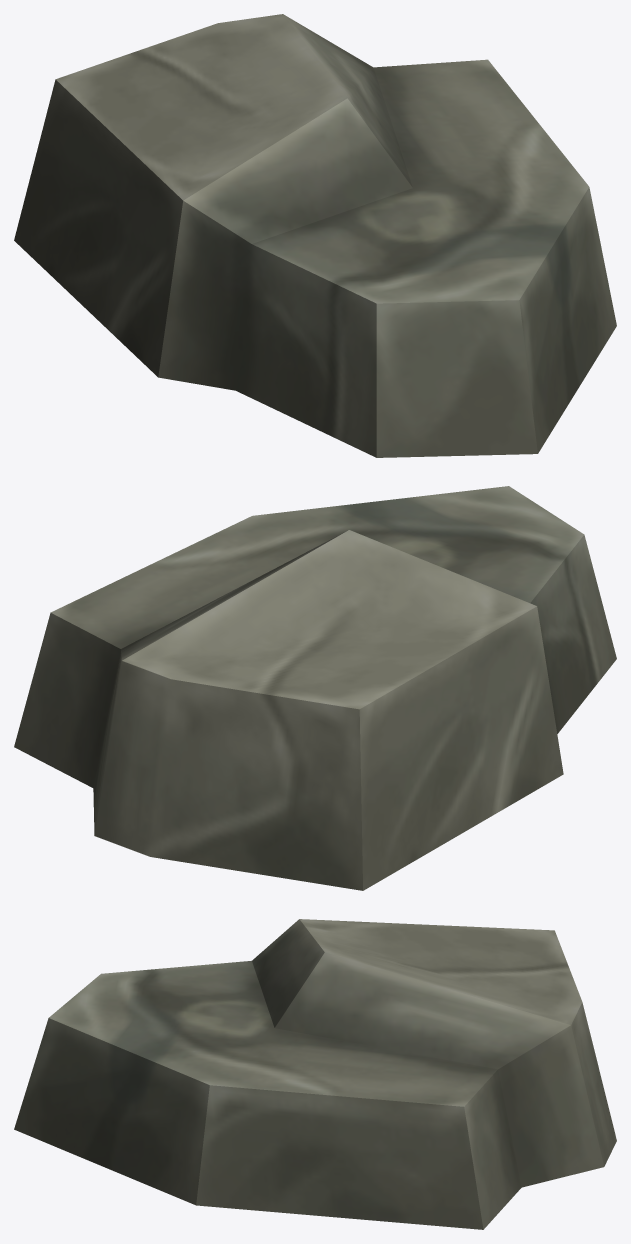
File: Rock_05.fbx
The picture shows the model from 3 angles, top to bottom: view 1: azimuth 30°, elevation 25°; view 2: azimuth 150°, elevation 25°; view 3: azimuth 270°, elevation 25°; orthographic projection. The views are drawn at different scales.
Visible parts, largest first — view 1: polySurface570; view 2: polySurface570; view 3: polySurface570.
Part boxes in pixels (box(x1,y1,x2,y2)): polySurface570: box(14, 14, 616, 457); polySurface570: box(14, 486, 616, 890); polySurface570: box(14, 919, 616, 1229).
Size of the model in its own units: 43.97 by 19.87 by 61.32.
Materials: 1 (1 with a texture image).
